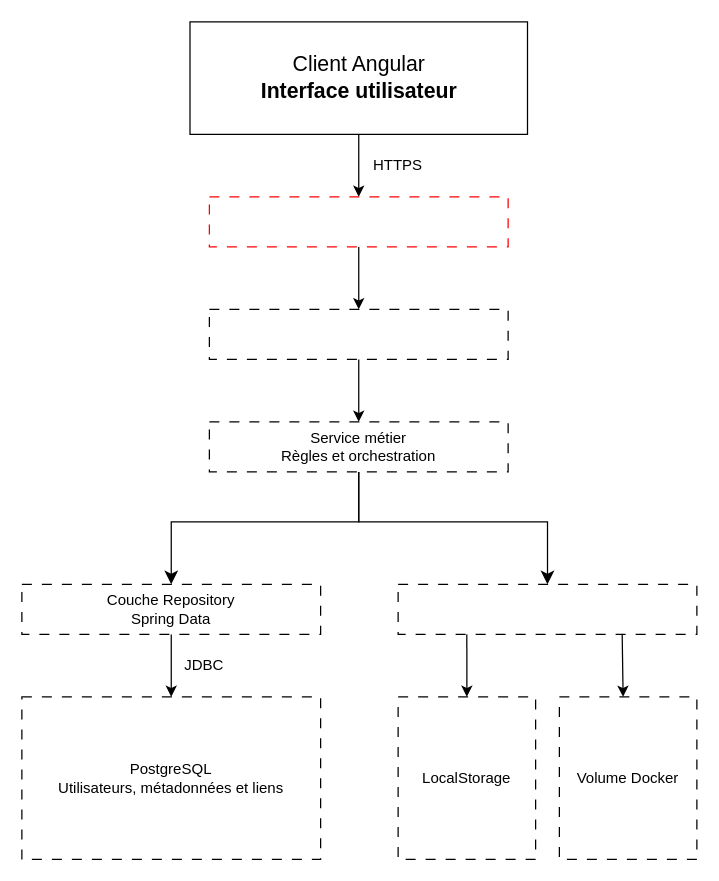
The diagram is 719 pixels wide and 881 high, and some of its shapes have lost their labels. Here are the shapes that lost their labels. From the top down, the box of each, then its label:
(208, 196, 508, 247): Filtres Spring Security JWT - Authentification
(208, 308, 508, 359): Controller REST Endpoints de l'API
(397, 583, 697, 634): StorageService Interface
